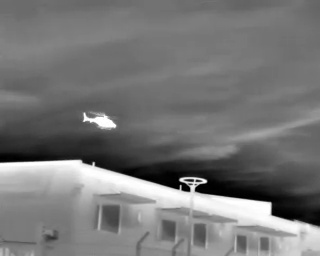HELICOPTER: (80, 105, 126, 137)
